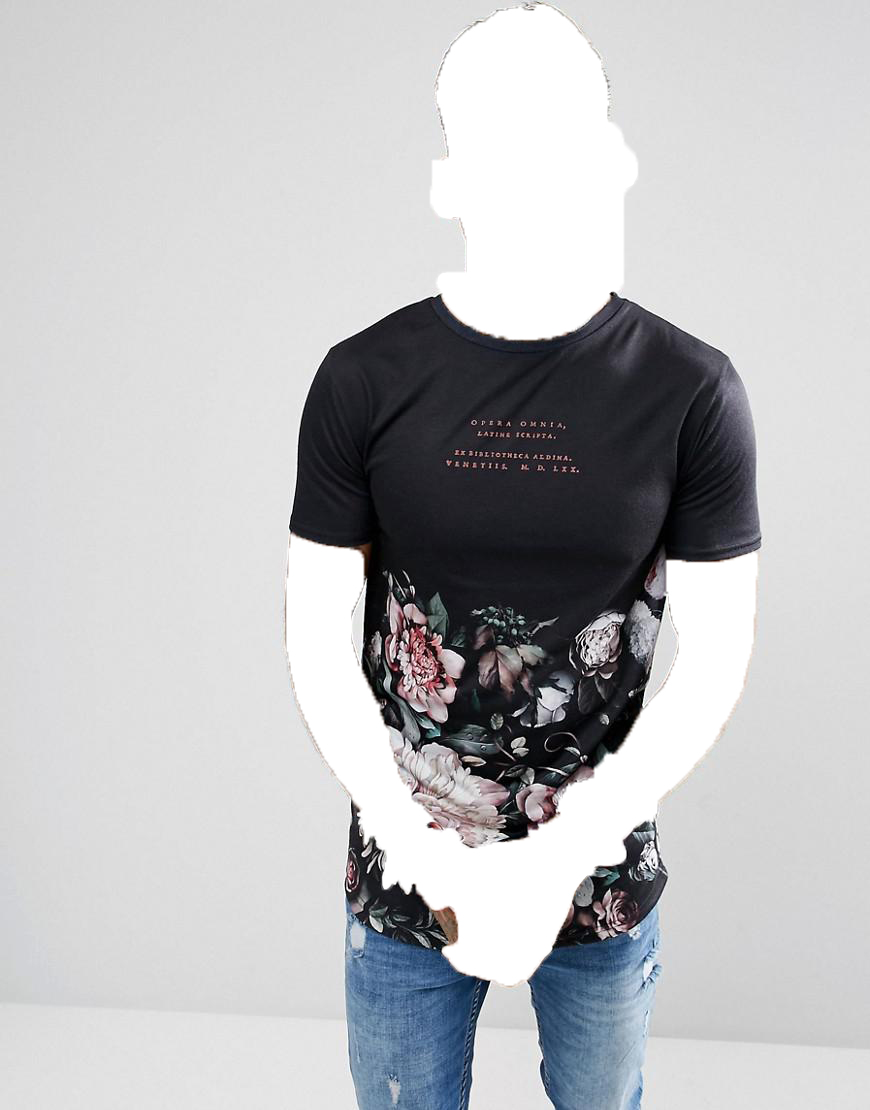teeshirt: (285, 296, 771, 949)
